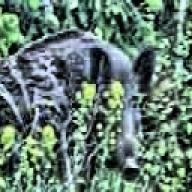boar: (0, 25, 156, 192)
